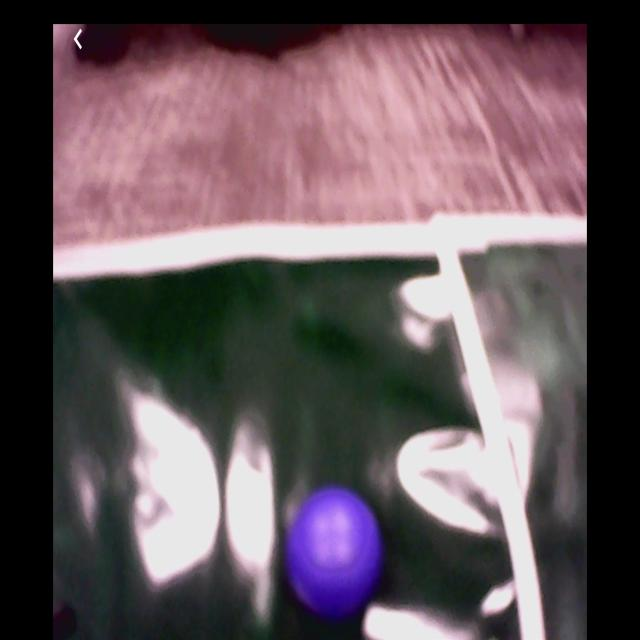ball: (292, 491, 383, 614)
